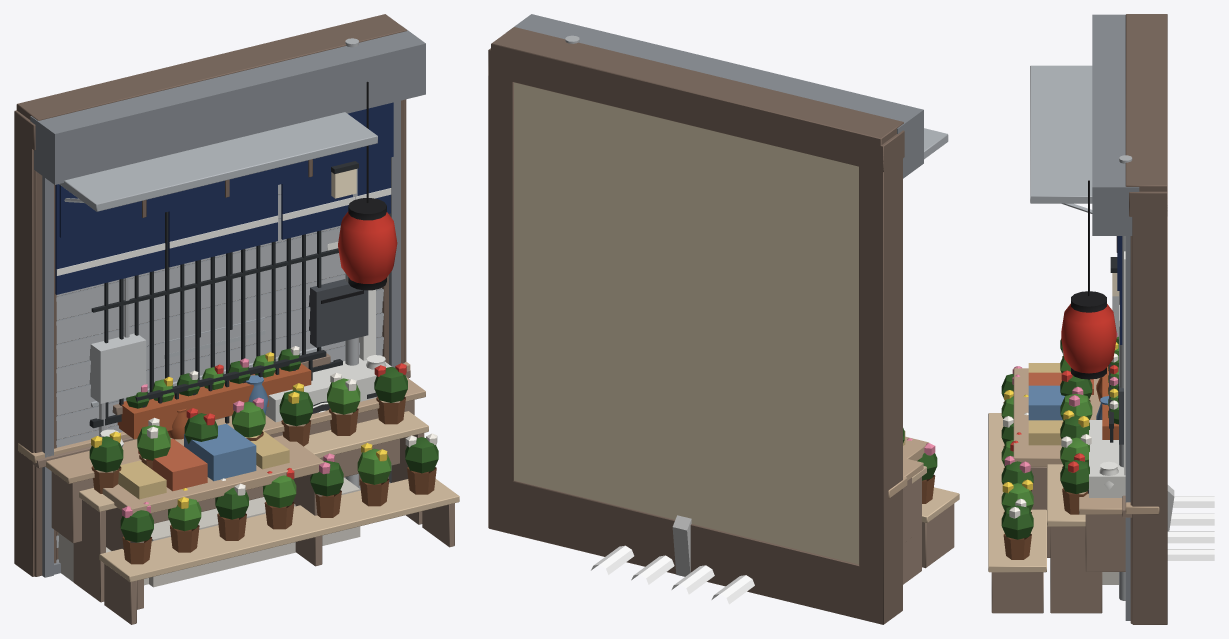
The model's file is kit.glb.
3 views of the same model, side by side, from view 1: azimuth 30°, elevation 25°; view 2: azimuth 150°, elevation 25°; view 3: azimuth 270°, elevation 25° (orthographic). The views are drawn at different scales.
Parts seen in each view (by area): view 1: SHUTTER, FLOWER, IZAKAYA, NOREN, GENKAN, SOUVENIR, LATTICE, WIN_LATTICE, SHOP_WIN, WIN_ALU, WALL_G, CAFE_DOOR (+3 smaller); view 2: LATTICE, IZAKAYA, NOREN, SHUTTER, FLOWER, eave_tiles, SHOP_WIN, ridge_end; view 3: FLOWER, LATTICE, IZAKAYA, SHUTTER, GENKAN, SOUVENIR, SHOP_WIN, WALL_AC, eave_tiles, WIN_ALU, SIDE_PIPE, NOREN.
Part boxes in pixels (bbox=[...]): SHUTTER: bbox=[30, 26, 425, 577]; FLOWER: bbox=[73, 363, 459, 624]; IZAKAYA: bbox=[16, 14, 407, 576]; NOREN: bbox=[55, 157, 391, 313]; GENKAN: bbox=[58, 112, 377, 585]; SOUVENIR: bbox=[102, 423, 324, 609]; LATTICE: bbox=[14, 99, 406, 576]; WIN_LATTICE: bbox=[89, 212, 342, 428]; SHOP_WIN: bbox=[18, 355, 425, 543]; WIN_ALU: bbox=[84, 263, 322, 439]; WALL_G: bbox=[87, 194, 316, 436]; CAFE_DOOR: bbox=[149, 290, 360, 587]; LATTICE: bbox=[488, 48, 904, 624]; IZAKAYA: bbox=[491, 27, 903, 624]; NOREN: bbox=[493, 52, 878, 623]; SHUTTER: bbox=[506, 14, 923, 178]; FLOWER: bbox=[903, 428, 959, 584]; eave_tiles: bbox=[591, 545, 754, 604]; SHOP_WIN: bbox=[888, 458, 923, 543]; ridge_end: bbox=[672, 515, 691, 576]; FLOWER: bbox=[988, 339, 1102, 613]; LATTICE: bbox=[1129, 191, 1167, 624]; IZAKAYA: bbox=[1061, 14, 1167, 623]; SHUTTER: bbox=[1092, 14, 1139, 620]; GENKAN: bbox=[1030, 65, 1123, 444]; SOUVENIR: bbox=[1013, 363, 1093, 557]; SHOP_WIN: bbox=[1079, 377, 1159, 571]; WALL_AC: bbox=[1088, 251, 1125, 497]; eave_tiles: bbox=[1167, 496, 1214, 560]; WIN_ALU: bbox=[1102, 333, 1118, 439]; SIDE_PIPE: bbox=[1119, 155, 1132, 600]; NOREN: bbox=[1119, 236, 1122, 344].
Size of what is drawn, in the model's own units: 2.47 by 2.96 by 1.35.
